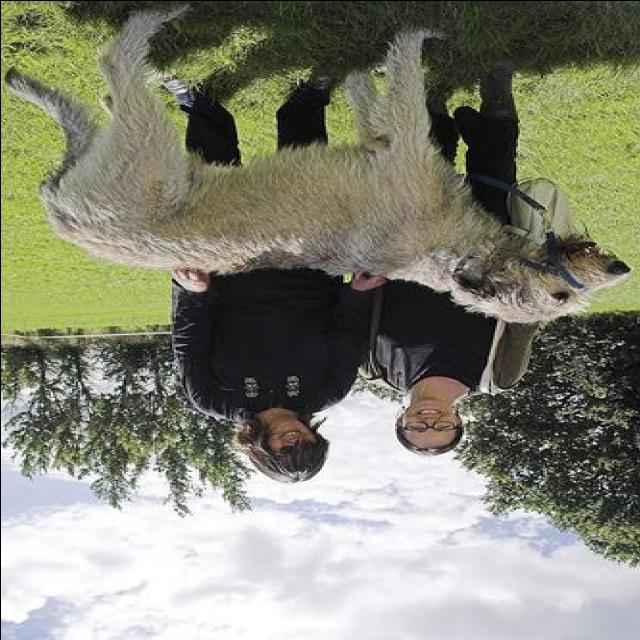irish_wolfhound: (4, 4, 630, 324)
